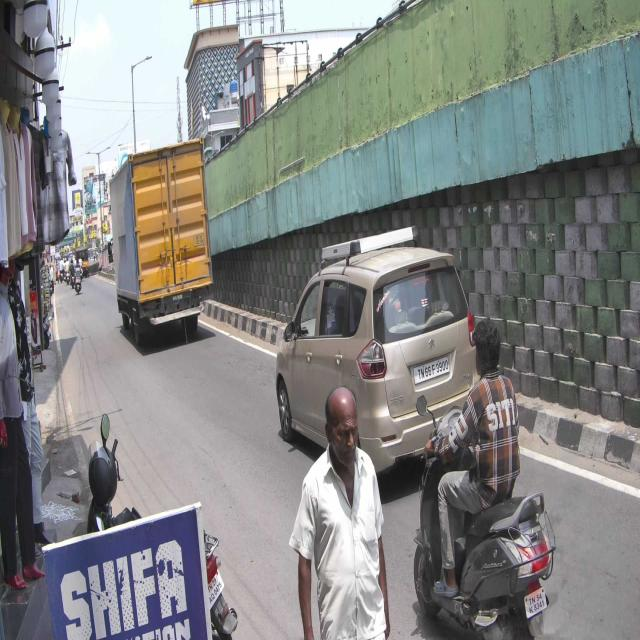single_rider: (413, 315, 553, 640)
